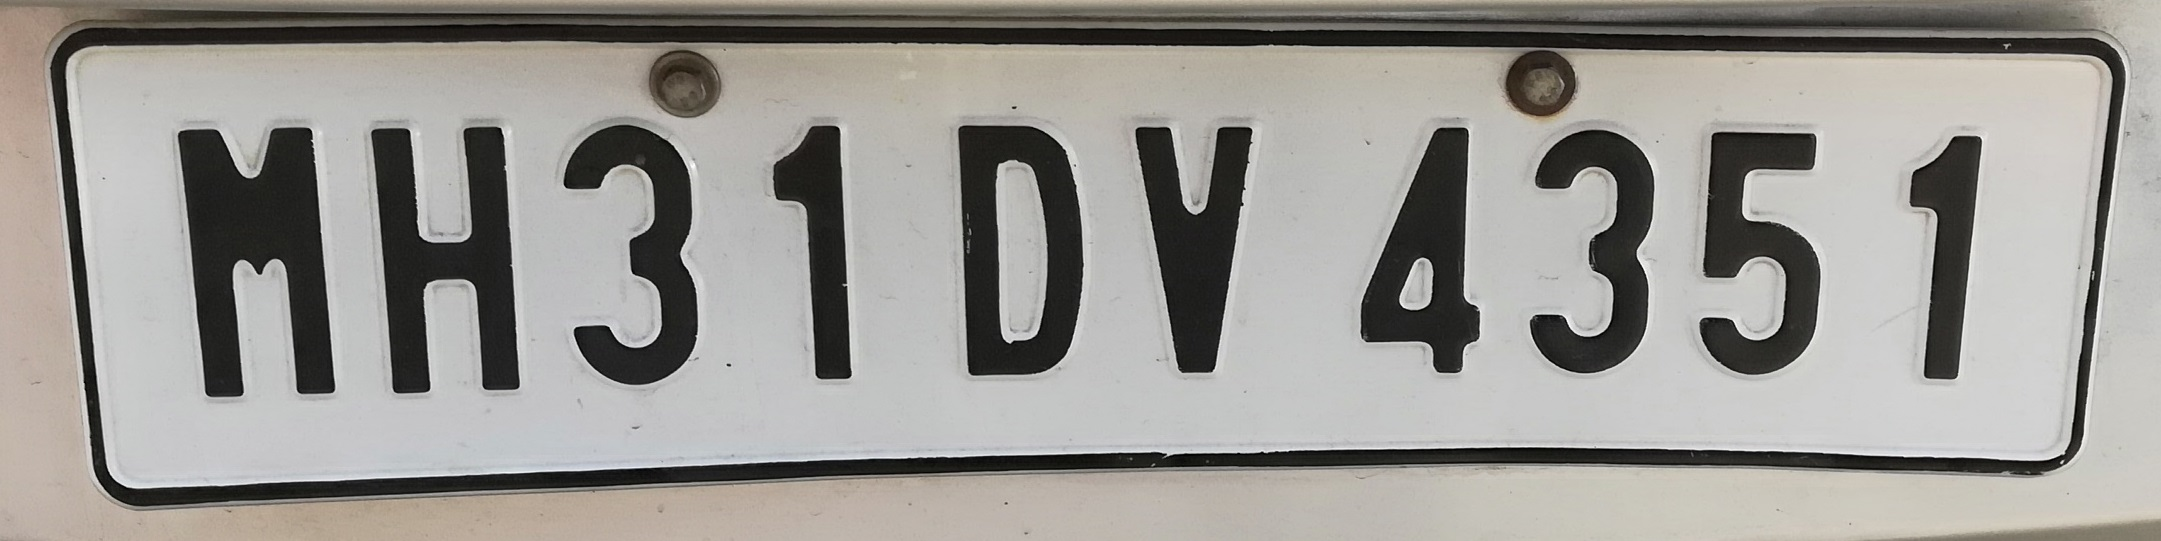numberplate: (53, 12, 2125, 512)
